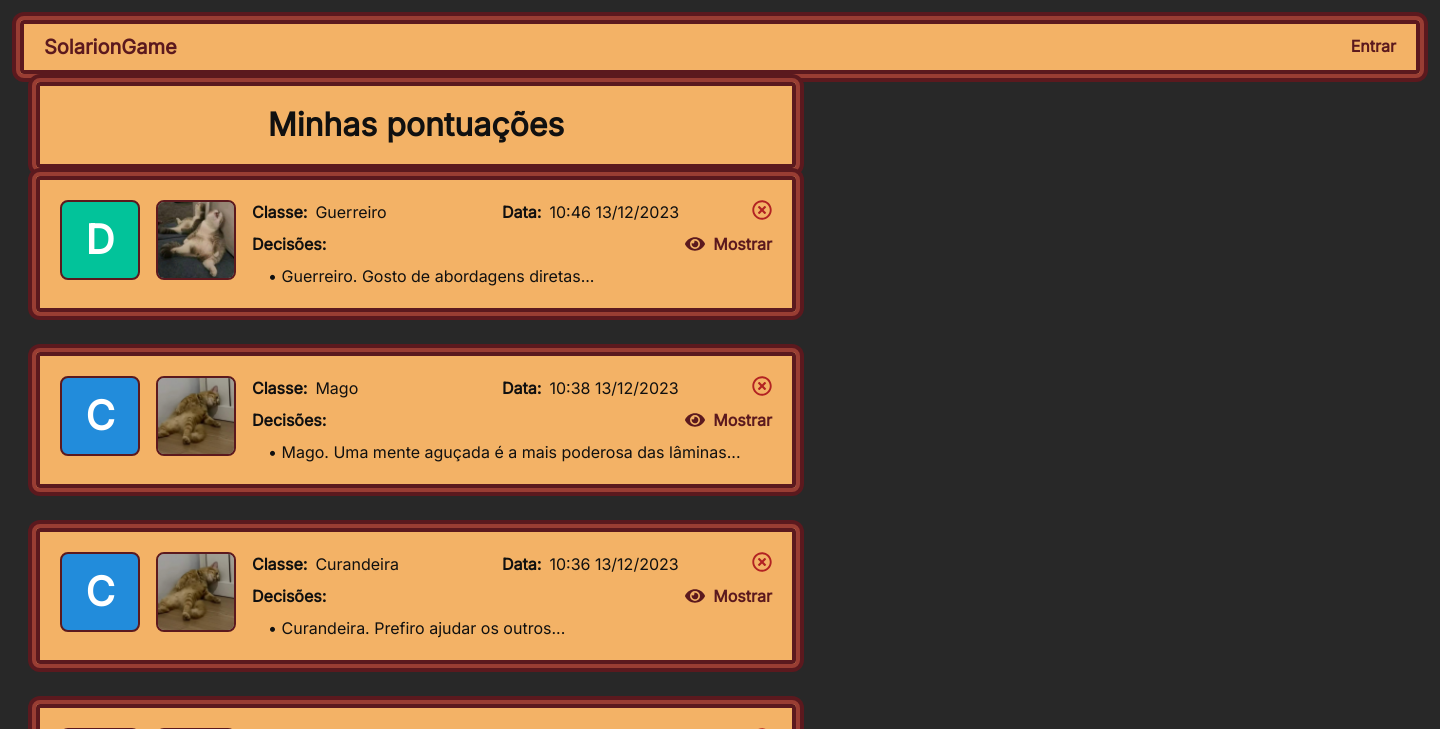
Test: MyScores Page › when delete modal is open › and when click on the main button › and when deleteScoreApi request fails › should show a warning with the error
The image size is (1440, 729).
Click the 1st icon at (762, 210), box x1=752 y1=200 x2=772 y2=220
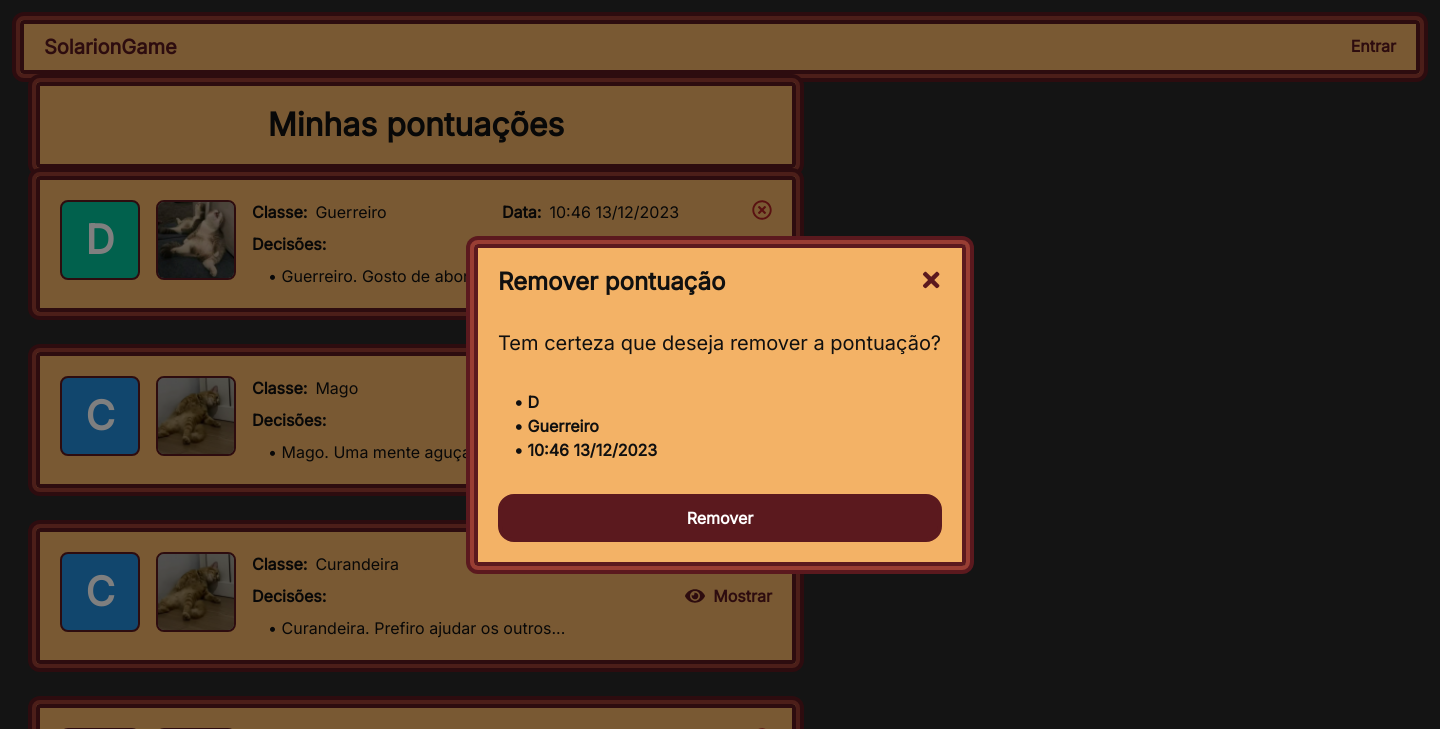
Click the button "Remover" at (720, 518), box x1=498 y1=494 x2=942 y2=542
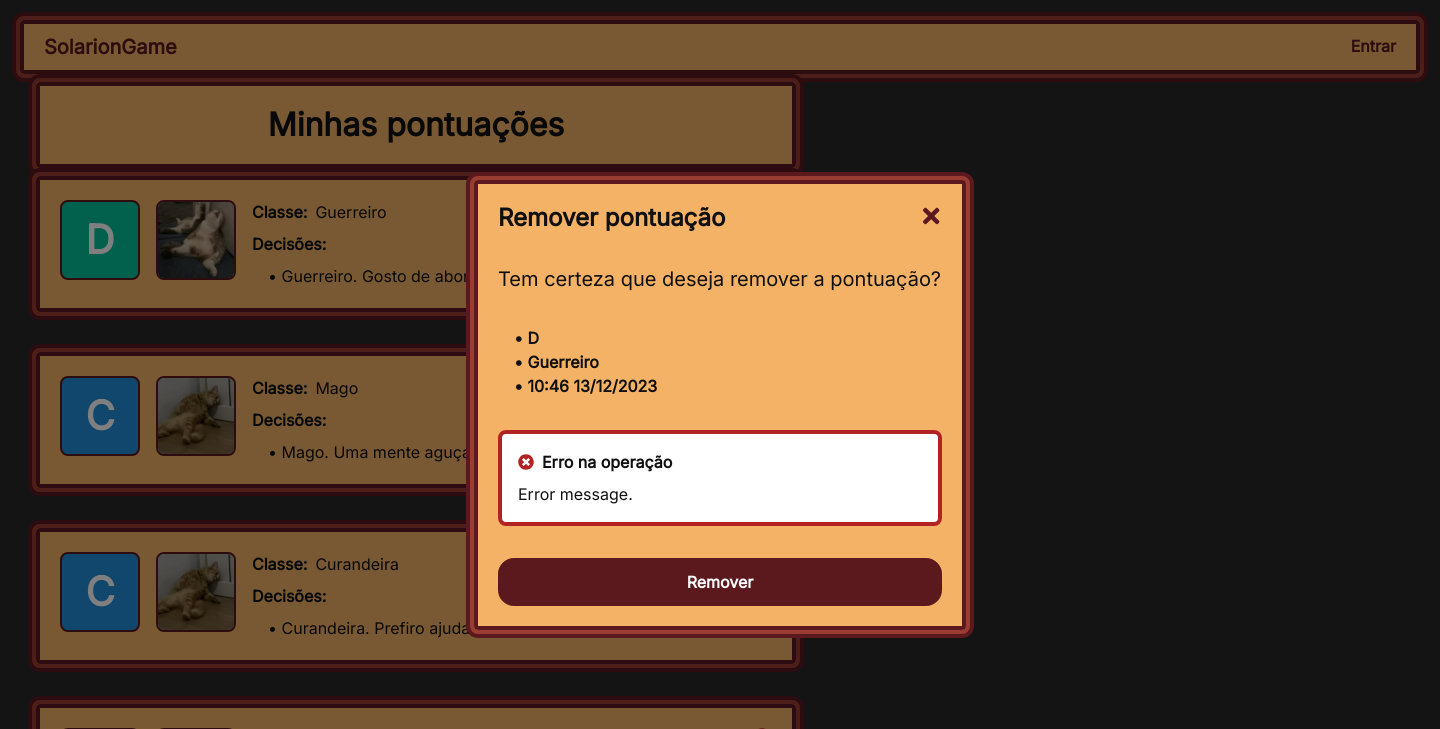
Expected: the message "Erro na operação Error message." is shown, x1=498 y1=430 x2=942 y2=526
Expected: the text "Error message." is shown, x1=518 y1=484 x2=633 y2=504
